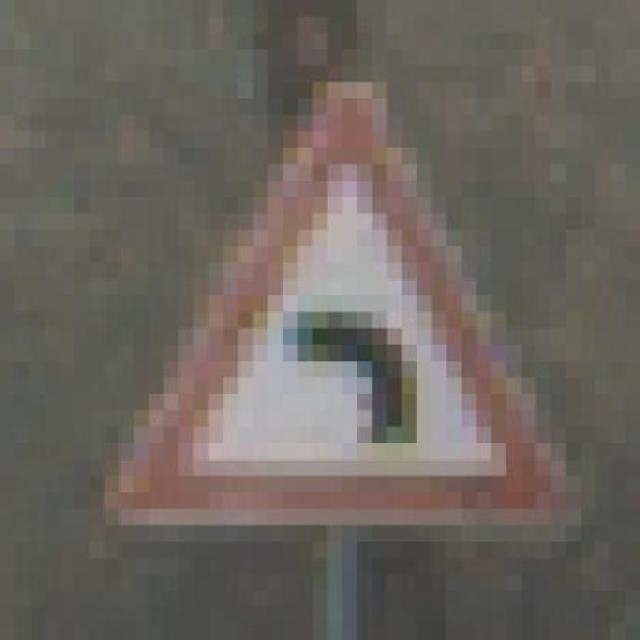Dangerous Left Curve Ahead: (104, 82, 565, 526)
